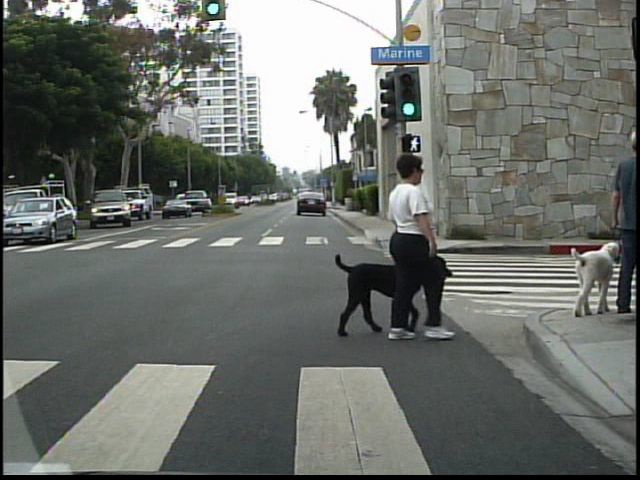person: (375, 143, 449, 346)
